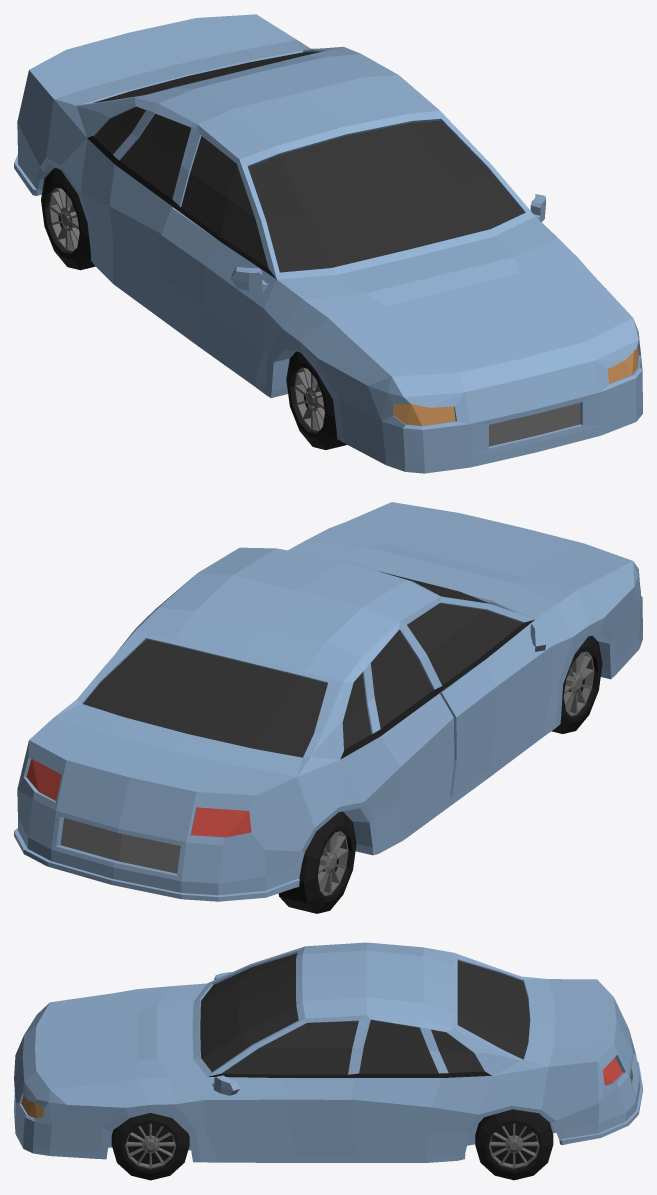
The model's file is car-a.glb.
3 renders of one model, top to bottom at view 1: azimuth 30°, elevation 25°; view 2: azimuth 150°, elevation 25°; view 3: azimuth 270°, elevation 25°, orthographic. The views are drawn at different scales.
Visible parts, largest first — view 1: NormalCar1_Cube.012; view 2: NormalCar1_Cube.012; view 3: NormalCar1_Cube.012.
Part boxes in pixels (x1,y1,x2,y2): NormalCar1_Cube.012: (14,14,642,473); NormalCar1_Cube.012: (14,502,642,913); NormalCar1_Cube.012: (14,942,642,1180).
Bounding box in the file's own units: 1.81 × 1.18 × 4.22.
1 material, 1 textured.
